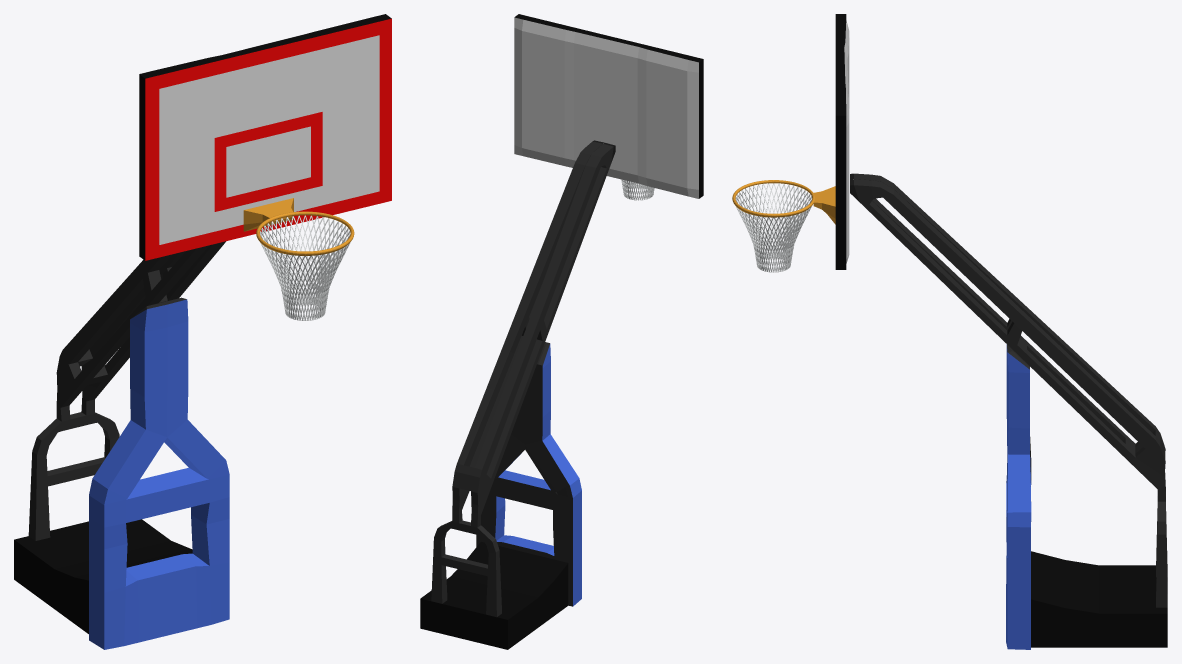
The model's file is prop_hoop.glb.
3 renders of one model, left to right at view 1: azimuth 30°, elevation 25°; view 2: azimuth 150°, elevation 25°; view 3: azimuth 270°, elevation 25°, orthographic. The views are drawn at different scales.
Parts seen in each view (by area): view 1: Hoop; view 2: Hoop; view 3: Hoop.
Part boxes in pixels (x1,y1,x2,y2): Hoop: (14,14,391,649); Hoop: (420,14,703,649); Hoop: (732,14,1167,649).
Size of the model in its own units: 1.51 by 3.86 by 2.72.
Materials: 1 (1 with a texture image).
